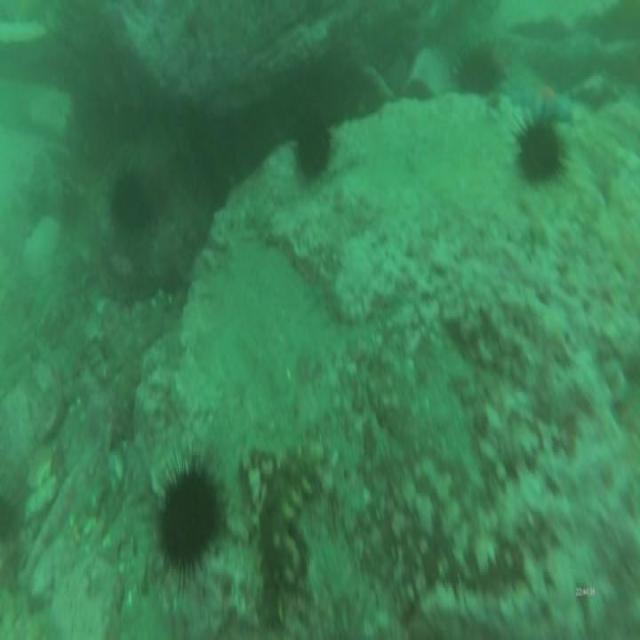echinus: (150, 444, 227, 591), (513, 106, 570, 190), (107, 161, 157, 240), (292, 105, 332, 186), (451, 48, 503, 100)
holothurian: (259, 432, 326, 606)
starfish: (519, 79, 578, 130)
